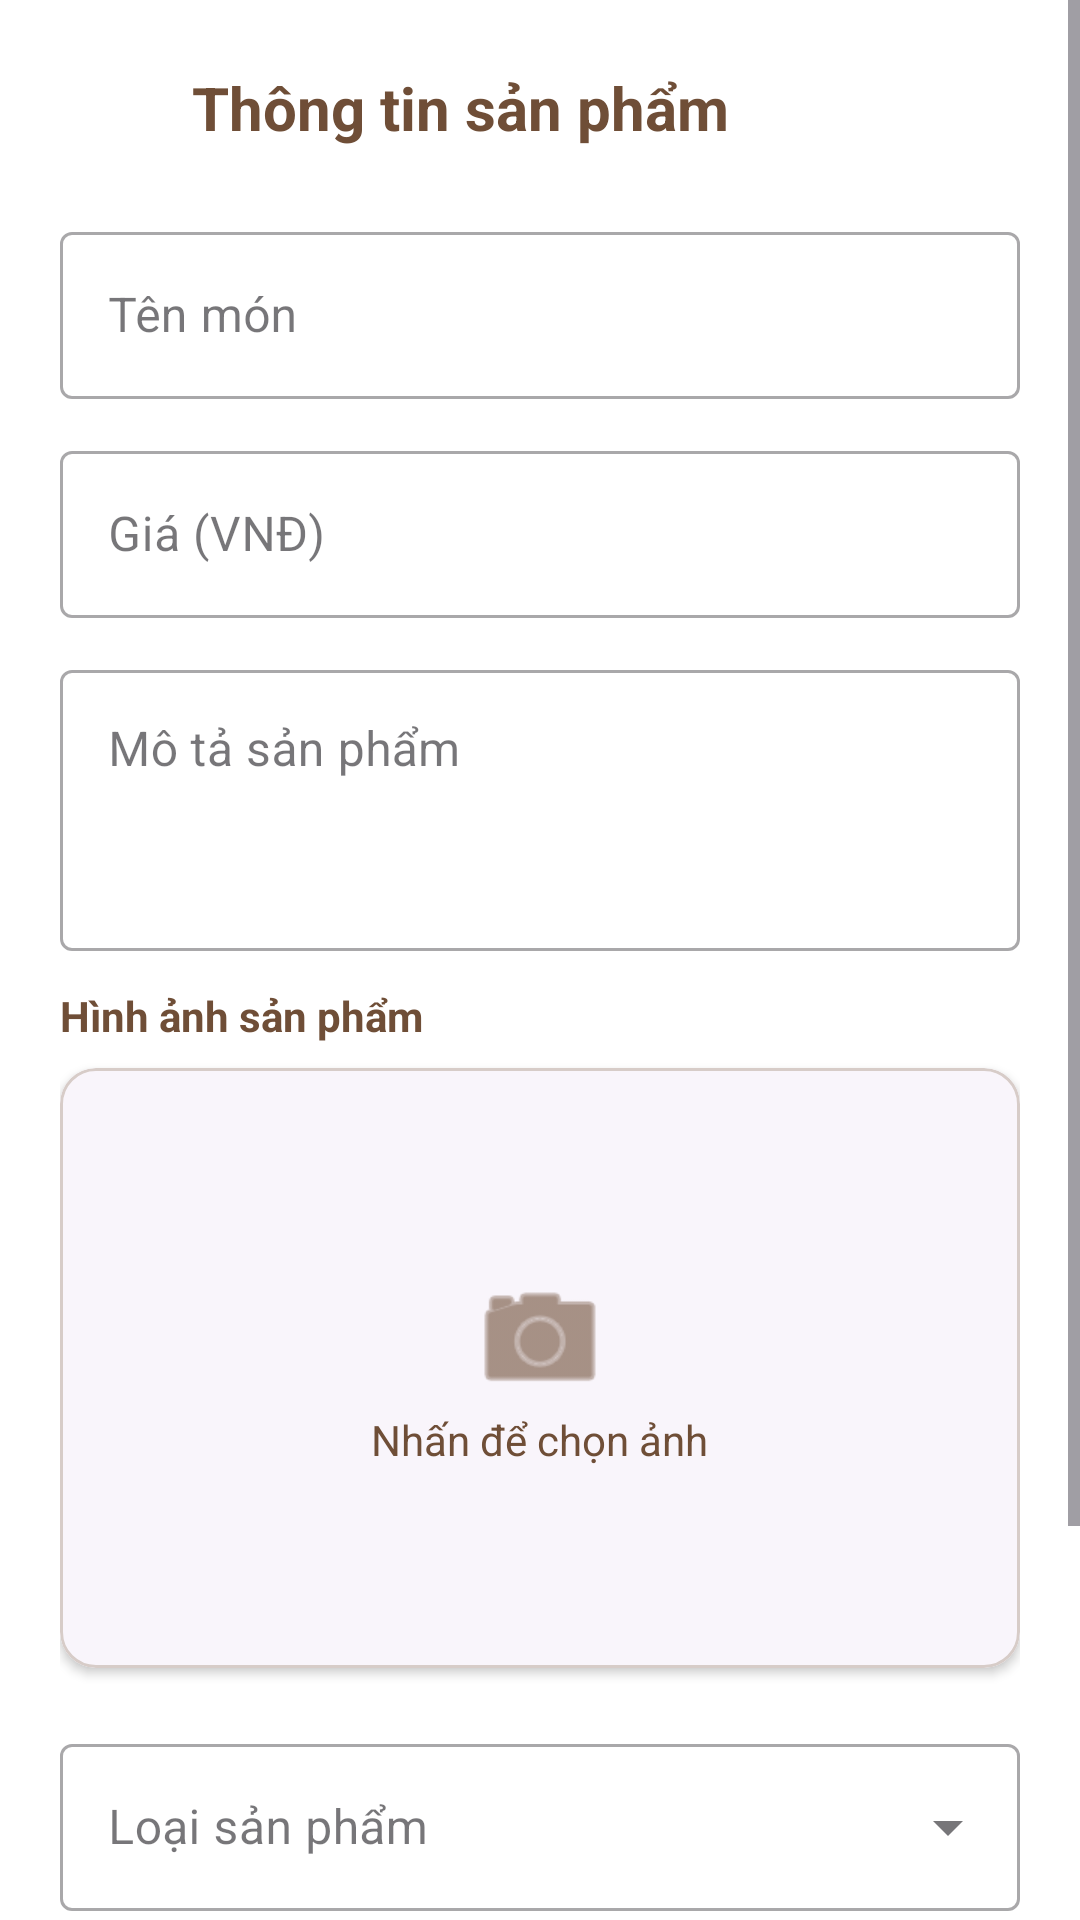

Named icons in this screenshot (1080px×1920px) and their centers, (x=x, y=y):
camera: (x=540, y=1336)
